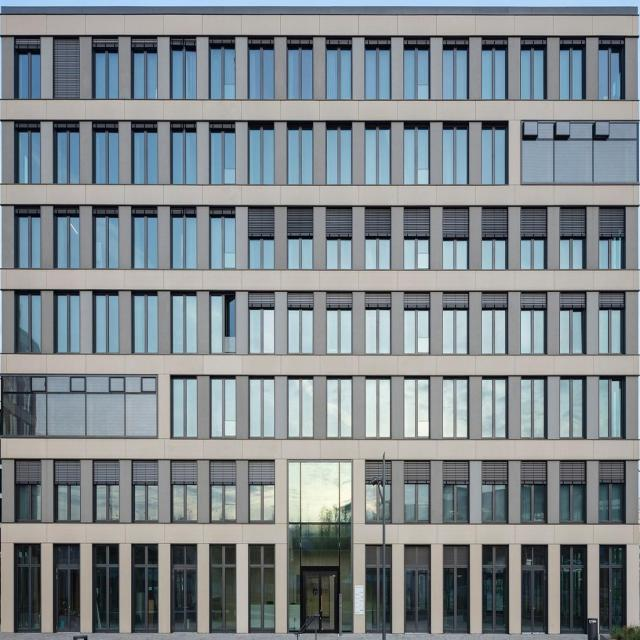door: (300, 567, 341, 638)
wall: (0, 6, 640, 636)
windows: (287, 461, 352, 636), (1, 377, 160, 436), (520, 119, 640, 184), (14, 545, 42, 637), (444, 548, 472, 640), (562, 546, 590, 638), (600, 548, 628, 640), (54, 543, 81, 635), (484, 546, 511, 638), (520, 547, 547, 639), (404, 547, 431, 638), (210, 544, 236, 638), (364, 549, 391, 639), (250, 543, 275, 637), (134, 543, 159, 636), (95, 545, 119, 635), (172, 546, 196, 636), (441, 292, 469, 356), (402, 294, 430, 356), (247, 462, 276, 521), (520, 462, 548, 523), (12, 462, 41, 520), (247, 208, 275, 268), (286, 294, 313, 356), (481, 294, 508, 356), (598, 292, 624, 356), (208, 463, 237, 520), (482, 204, 507, 270), (520, 294, 547, 355), (520, 207, 546, 270), (130, 462, 158, 520), (15, 290, 42, 350), (169, 377, 196, 437), (364, 295, 391, 355), (287, 210, 313, 272), (560, 292, 585, 356), (170, 465, 197, 524), (442, 462, 469, 521), (248, 292, 274, 353), (599, 207, 624, 270), (480, 128, 508, 184), (444, 206, 468, 271), (134, 295, 160, 355), (172, 294, 198, 354), (328, 378, 354, 438), (480, 378, 506, 438), (560, 463, 585, 525), (599, 460, 625, 519), (54, 37, 80, 96), (404, 463, 429, 524), (560, 207, 584, 270), (53, 463, 80, 519), (326, 209, 351, 269), (289, 377, 314, 437), (210, 293, 235, 353), (327, 294, 351, 356), (482, 465, 508, 522), (365, 210, 390, 269), (368, 379, 393, 438), (520, 380, 545, 439), (404, 208, 428, 269), (366, 462, 390, 523), (210, 378, 234, 438), (444, 378, 468, 438), (596, 379, 620, 439), (94, 463, 118, 523), (56, 292, 80, 351), (404, 379, 428, 438), (556, 380, 580, 439), (56, 214, 82, 267), (98, 294, 120, 354), (252, 382, 274, 441), (287, 46, 312, 97), (174, 132, 199, 183), (209, 217, 234, 268), (328, 47, 353, 97), (520, 48, 545, 98), (595, 47, 620, 97), (556, 47, 581, 97), (16, 132, 41, 182), (251, 132, 276, 182), (134, 48, 158, 99), (369, 48, 393, 99), (480, 46, 504, 97), (17, 216, 41, 267), (134, 132, 158, 183), (95, 132, 119, 183), (367, 132, 391, 183), (328, 132, 352, 183), (404, 130, 428, 181), (443, 132, 467, 183), (133, 218, 157, 269), (94, 218, 118, 269), (174, 218, 198, 269), (17, 48, 41, 98), (94, 47, 118, 97), (211, 48, 235, 98), (172, 48, 196, 98), (252, 48, 276, 98), (444, 48, 468, 98), (405, 48, 429, 98), (57, 133, 81, 183), (292, 133, 316, 183), (210, 131, 234, 181)
